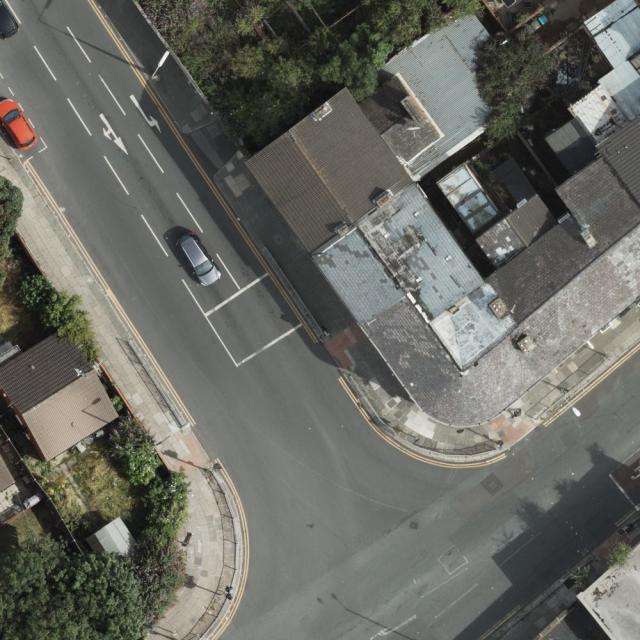roof: (245, 0, 640, 428), (2, 334, 119, 463), (577, 541, 639, 640), (0, 456, 17, 490)
